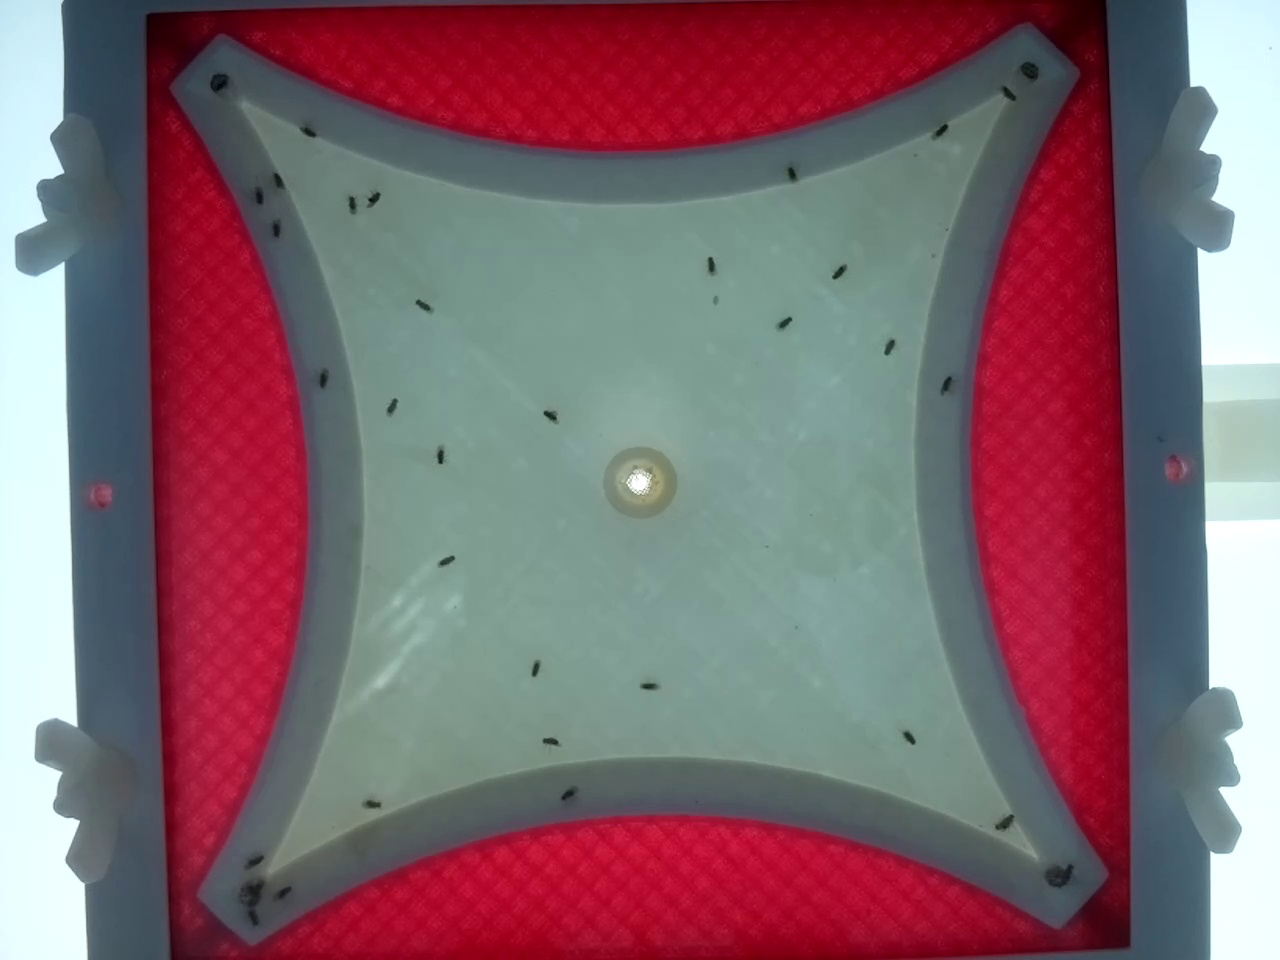fly: (247, 186, 272, 211), (263, 218, 288, 243), (338, 190, 363, 215), (928, 118, 953, 143), (999, 82, 1024, 107), (771, 310, 796, 335), (361, 185, 386, 210), (876, 333, 901, 358), (379, 394, 404, 419), (933, 372, 958, 397), (628, 673, 653, 698), (896, 724, 921, 749), (537, 728, 562, 753), (359, 791, 384, 816), (1054, 860, 1079, 885), (242, 848, 267, 873), (240, 904, 265, 929), (993, 809, 1018, 834), (296, 119, 321, 144), (262, 164, 287, 189), (826, 259, 851, 284), (698, 252, 723, 277), (411, 294, 436, 319), (778, 157, 803, 182), (311, 372, 336, 397), (426, 443, 451, 468), (538, 403, 563, 428), (523, 655, 548, 680), (434, 547, 459, 572), (556, 781, 581, 806), (270, 880, 295, 905)
